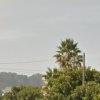Tree: (32, 24, 96, 97)
